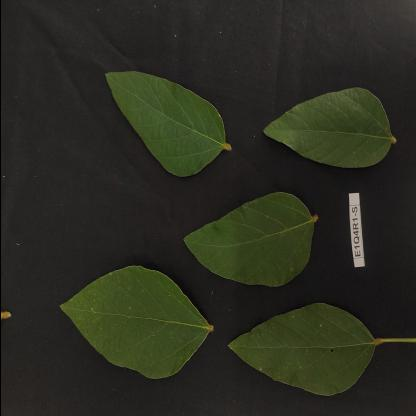label: (341, 184, 368, 268)
leaflets: (54, 265, 209, 383), (186, 163, 325, 291), (219, 290, 368, 408), (94, 48, 220, 170), (272, 74, 416, 171)
